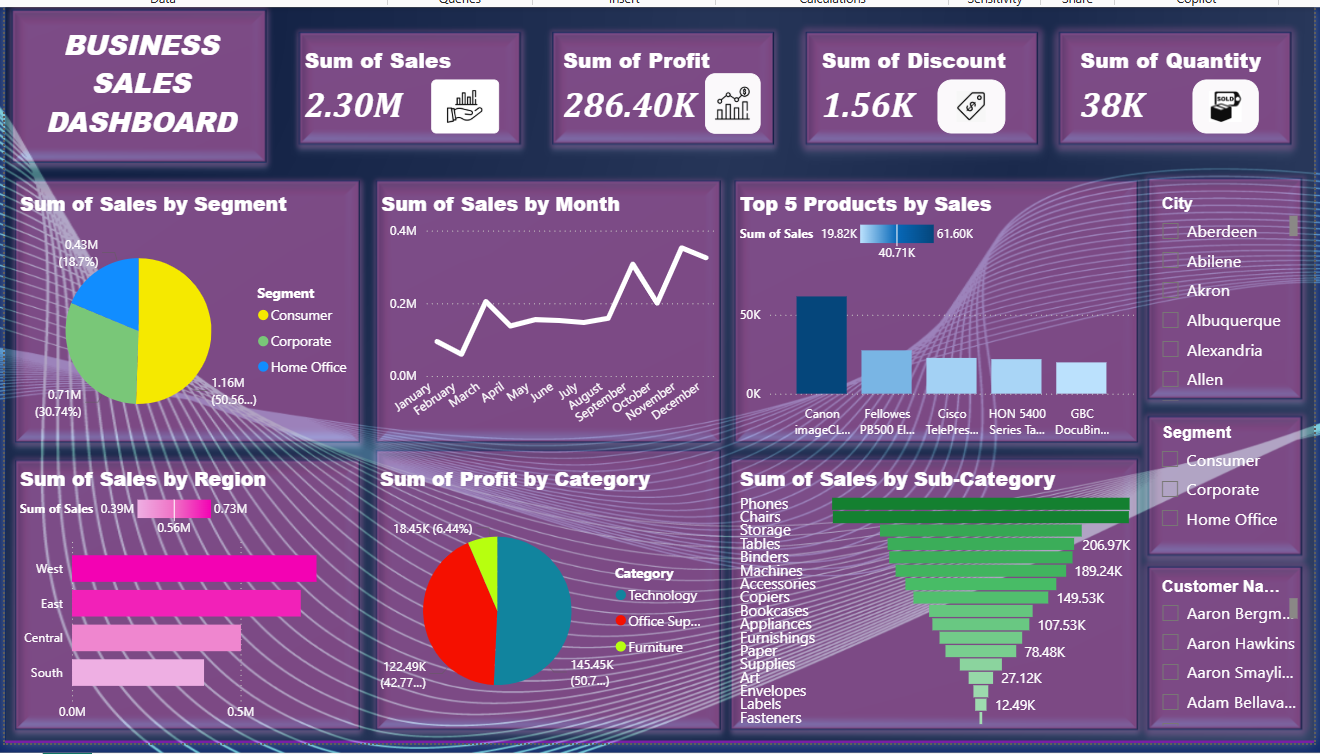

Layout of this report page (visuals, bound fields, positions):
{"tool":"powerbi","page":{"name":"Page 1","canvas":[1280,720],"ordinal":0},"visuals":[{"type":"textbox","box":[9.7,12.1,246.1,152],"z":0},{"type":"cardVisual","fields":{"Data":["Orders.Sales","Orders.Profit","Orders.Discount","Orders.Quantity"]},"box":[264.2,0,1015.8,152],"z":1000},{"type":"pieChart","fields":{"Y":["Orders.Sales"],"Category":["Orders.Segment"]},"box":[9.7,178.6,339,250.9],"z":2000},{"type":"clusteredBarChart","fields":{"Y":["Orders.Sales"],"Category":["Orders.Region"]},"box":[9.8,447.6,338.7,260.5],"z":3000},{"type":"pieChart","fields":{"Category":["Orders.Category"],"Y":["Orders.Profit"]},"box":[362,447.6,338.7,260.5],"z":4000},{"type":"lineChart","fields":{"Category":["Orders.Order Date.Variation.Date Hierarchy.Month"],"Y":["Orders.Sales"]},"box":[363.2,178.5,337.5,250.7],"z":5000},{"type":"clusteredColumnChart","title":"Top 5 Products by Sales","fields":{"Y":["Orders.Sales"],"Category":["Orders.Product Name"]},"box":[714.2,178.6,395.7,250.9],"z":6000},{"type":"funnel","fields":{"Y":["Orders.Sales"],"Category":["Orders.Sub-Category"]},"box":[714.1,447.6,396.2,260.5],"z":7000},{"type":"slicer","title":"City","fields":{"Values":["Orders.City"]},"box":[1118.9,178.5,150.4,211.6],"z":8000},{"type":"slicer","title":"Segment","fields":{"Values":["Orders.Segment"]},"box":[1118.9,402.3,150.4,137],"z":9000},{"type":"slicer","title":"Customer Name","fields":{"Values":["Orders.Customer Name"]},"box":[1118.9,552.7,150.4,155.3],"z":10000},{"type":"image","box":[417.4,71.2,66.4,53.1],"z":11000},{"type":"image","box":[685.3,65.1,54.3,59.1],"z":12000},{"type":"image","box":[1161.8,71.2,65.1,53.1],"z":13000},{"type":"image","box":[912.1,71.2,66.4,53.1],"z":14000}]}

Visuals, with their boxes on the page's 1280x720 design canvas (x1, y1, x2, y2). These are canvas units, not pixel positions in the 1320x754 screenshot, which may show the page scaled, cropped or inside an application window:
textbox: bbox=(10, 12, 256, 164)
cardVisual - Orders.Sales x Orders.Profit: bbox=(264, 0, 1280, 152)
pieChart - Orders.Sales x Orders.Segment: bbox=(10, 179, 349, 430)
clusteredBarChart - Orders.Sales x Orders.Region: bbox=(10, 448, 348, 708)
pieChart - Orders.Category x Orders.Profit: bbox=(362, 448, 701, 708)
lineChart - Orders.Order Date.Variation.Date Hierarchy.Month x Orders.Sales: bbox=(363, 178, 701, 429)
"Top 5 Products by Sales" clusteredColumnChart: bbox=(714, 179, 1110, 430)
funnel - Orders.Sales x Orders.Sub-Category: bbox=(714, 448, 1110, 708)
"City" slicer: bbox=(1119, 178, 1269, 390)
"Segment" slicer: bbox=(1119, 402, 1269, 539)
"Customer Name" slicer: bbox=(1119, 553, 1269, 708)
image: bbox=(417, 71, 484, 124)
image: bbox=(685, 65, 740, 124)
image: bbox=(1162, 71, 1227, 124)
image: bbox=(912, 71, 978, 124)
